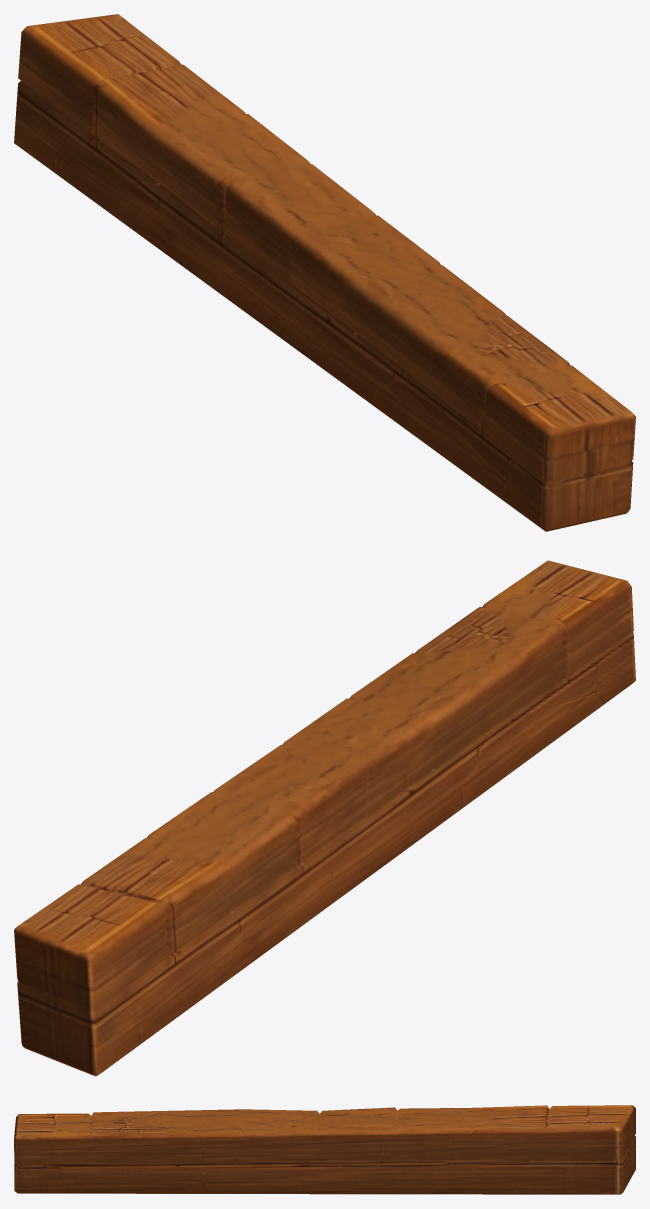
The model's file is wale.glb.
The picture shows the model from 3 angles, top to bottom: view 1: azimuth 30°, elevation 25°; view 2: azimuth 150°, elevation 25°; view 3: azimuth 270°, elevation 25°; orthographic projection. The views are drawn at different scales.
Visible parts, largest first — view 1: wale; view 2: wale; view 3: wale.
Part boxes in pixels (<box>): wale: <box>14,14,635,531</box>; wale: <box>14,560,635,1076</box>; wale: <box>14,1105,635,1194</box>.
Bounding box in the file's own units: 0.2094 × 0.2449 × 2.
Materials: 1 (1 with a texture image).
